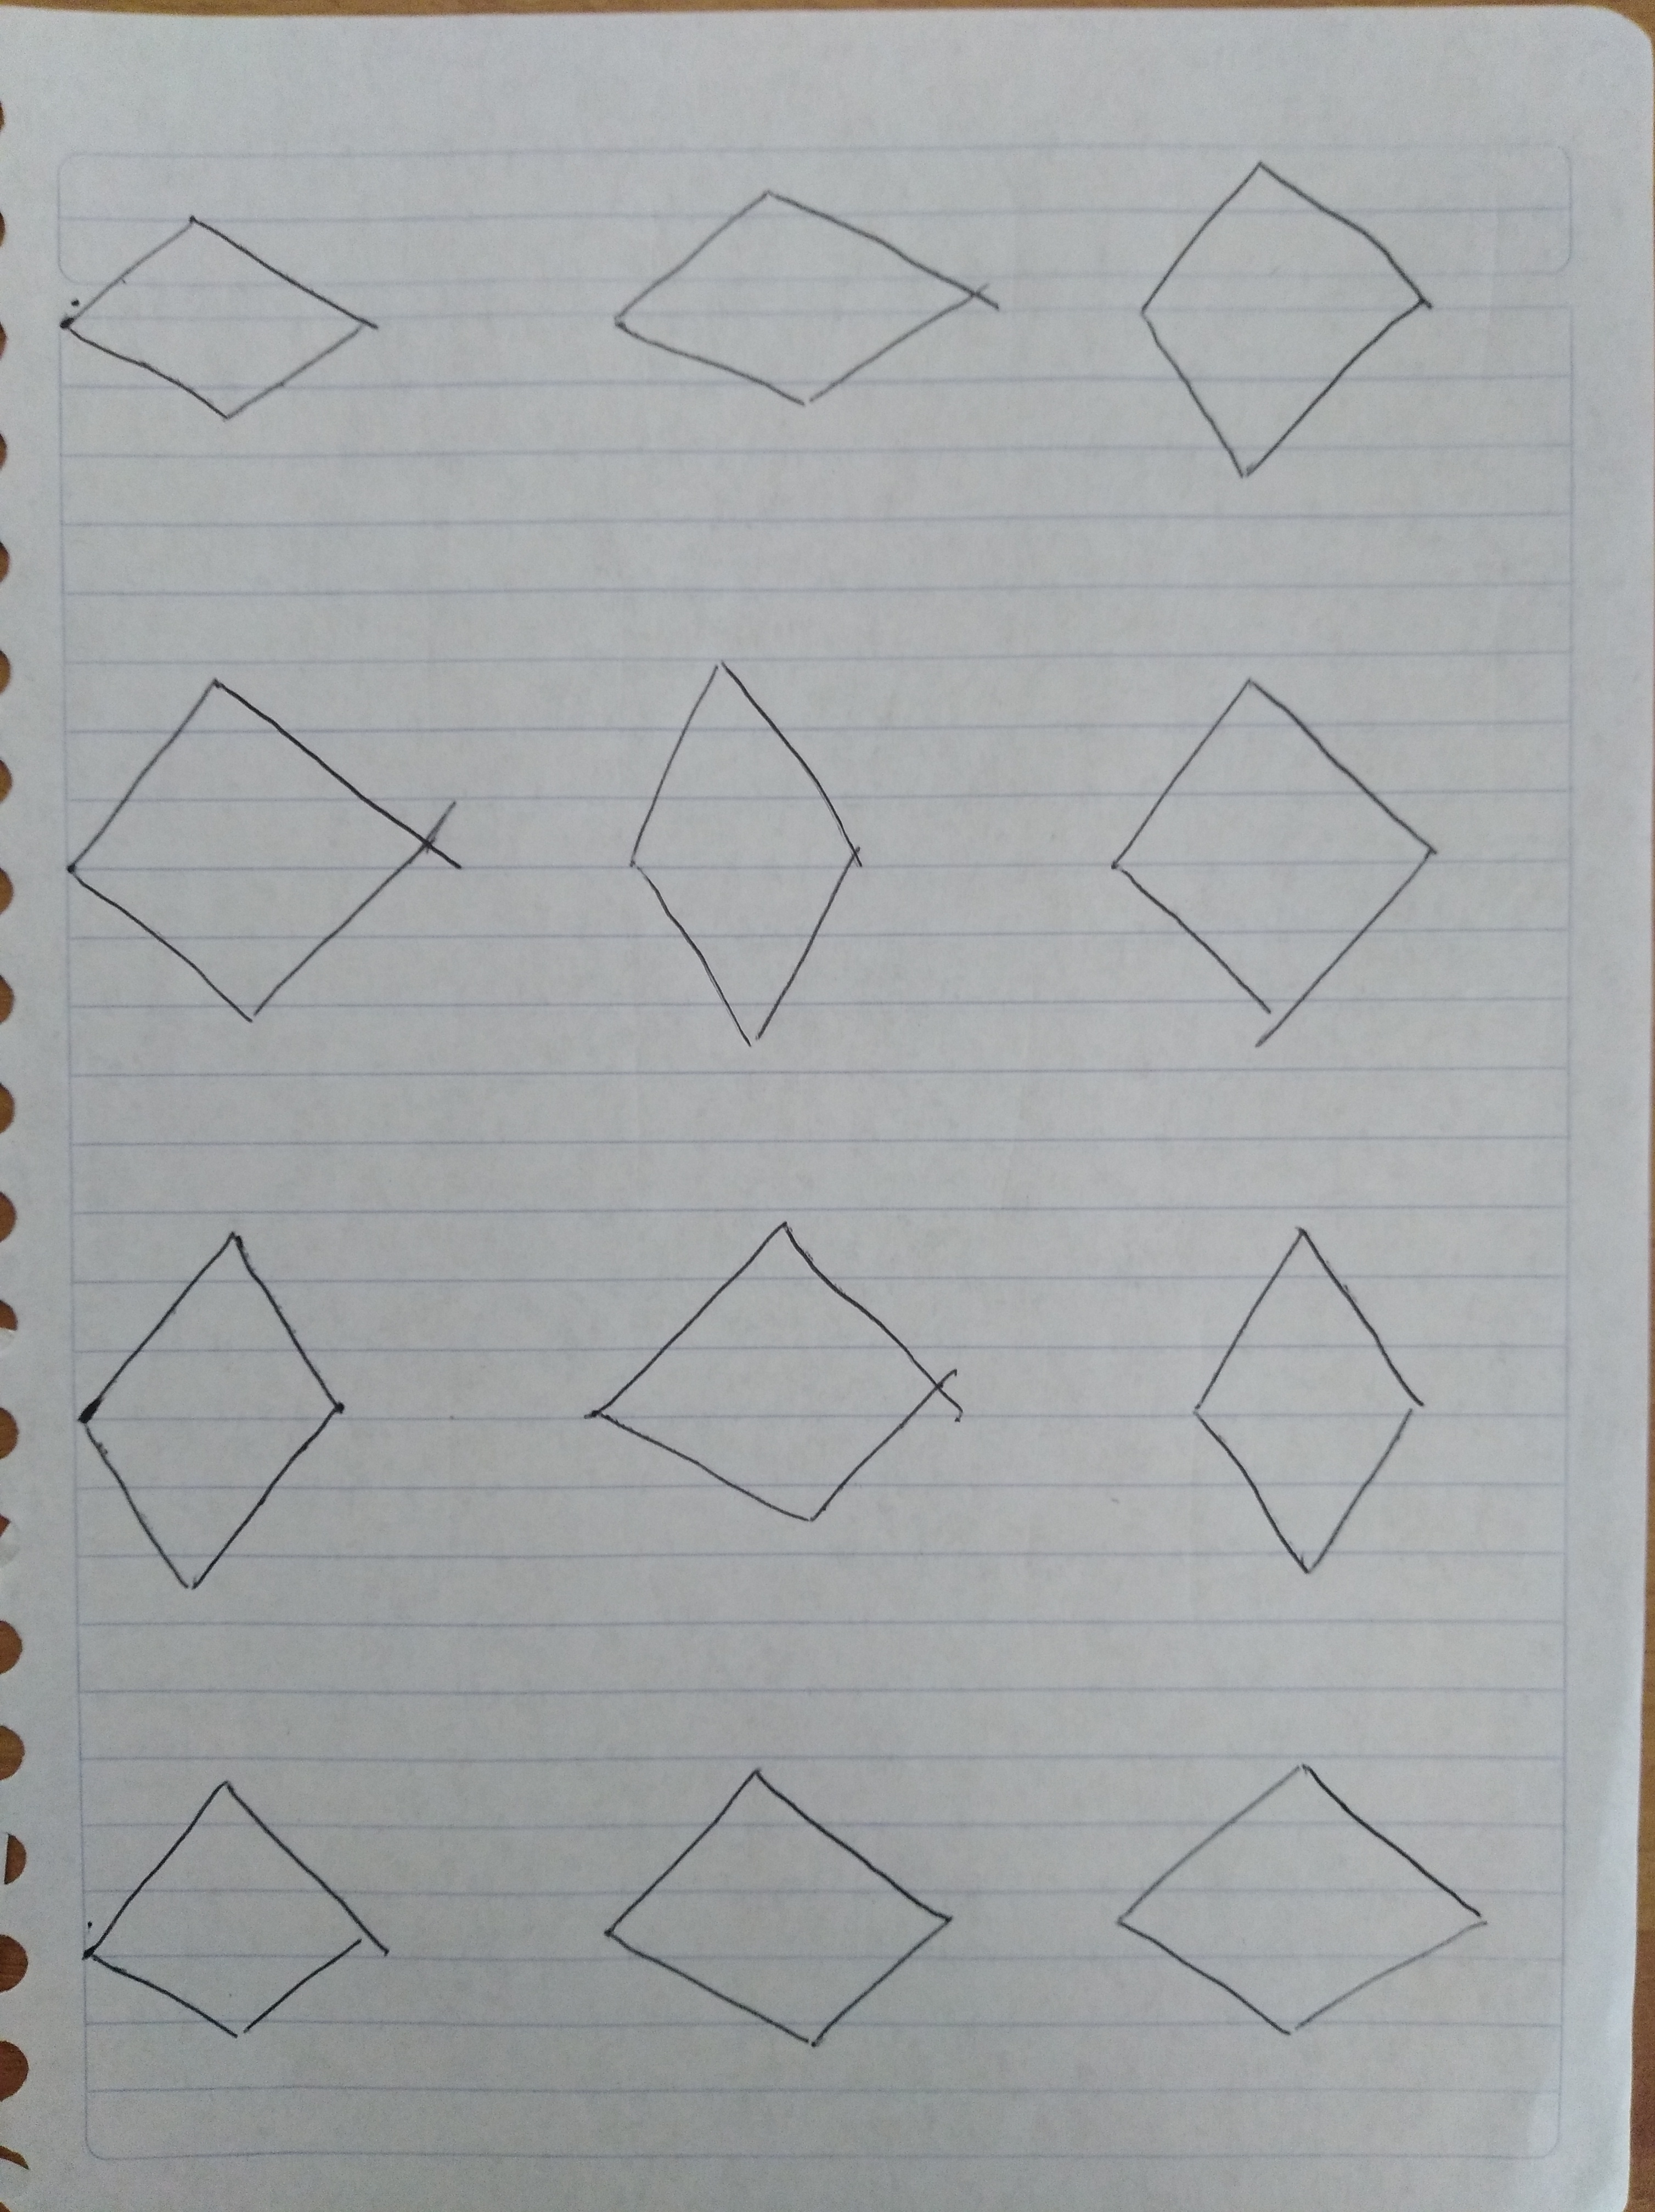decision: (42, 653, 495, 1041), (1087, 632, 1462, 1074), (560, 1192, 994, 1573), (1093, 1706, 1518, 2073), (572, 627, 904, 1072), (579, 1732, 998, 2082), (1102, 111, 1459, 502), (586, 136, 1027, 445), (63, 1208, 374, 1614), (57, 1757, 442, 2082), (1161, 1189, 1457, 1607), (40, 160, 405, 447)
